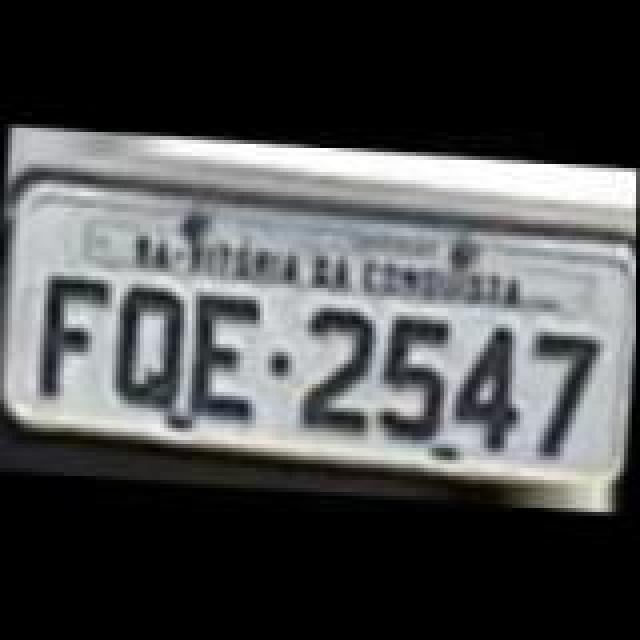2: (300, 306, 388, 446)
4: (448, 318, 532, 458)
5: (378, 314, 458, 450)
7: (516, 328, 608, 464)
E: (184, 288, 272, 428)
F: (32, 272, 120, 408)
Q: (112, 284, 200, 416)
